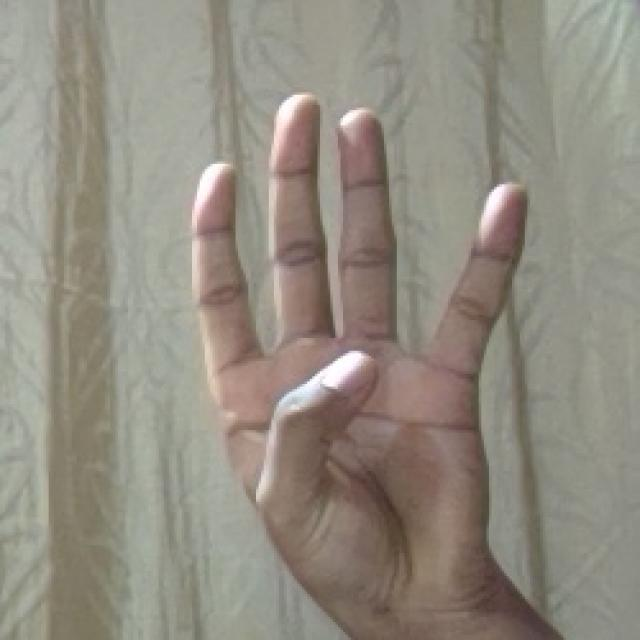Numeric-4: (186, 88, 532, 601)
